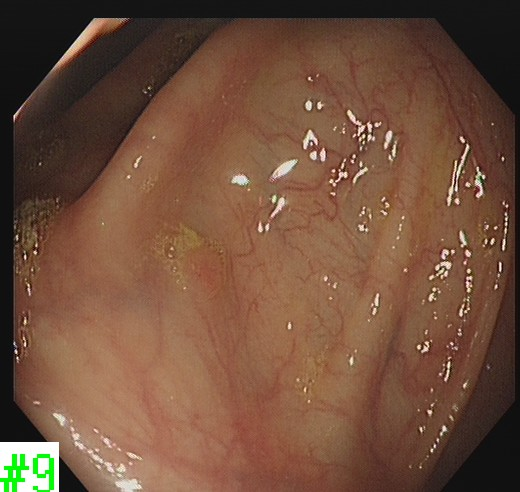adenoma: (176, 240, 227, 297)
